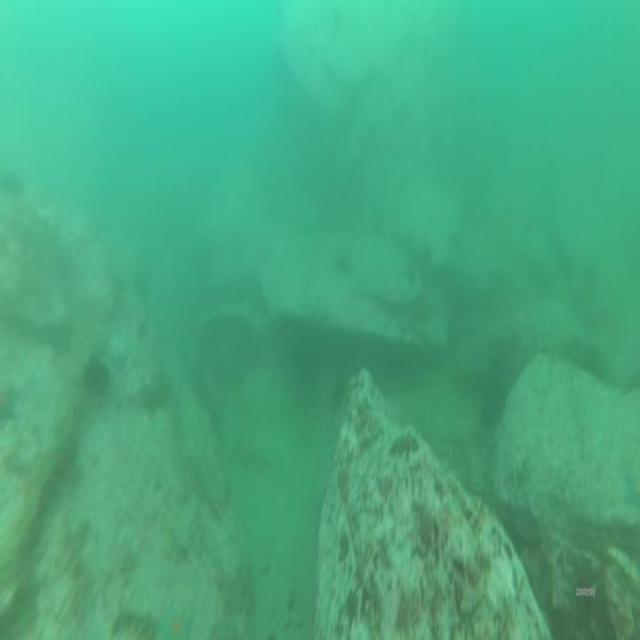echinus: (88, 361, 108, 398)
holothurian: (108, 603, 153, 640)
